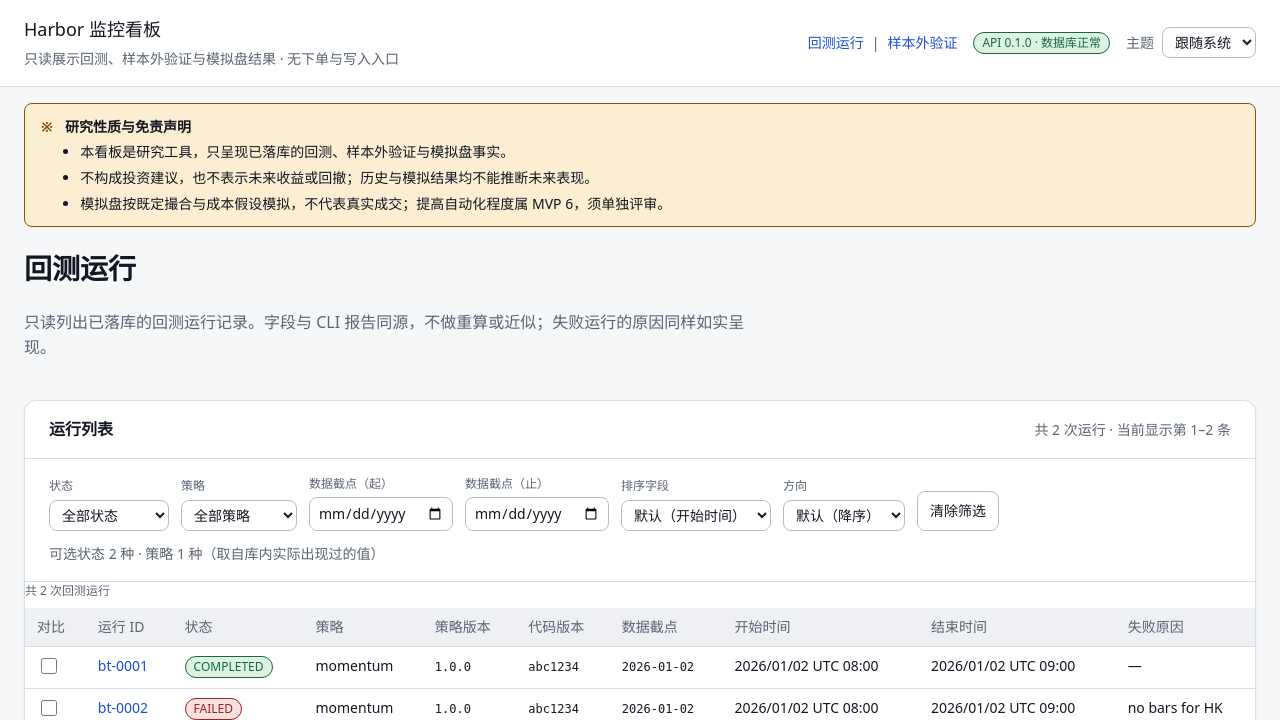
Test: dashboard smoke test › opens a run's detail view with the tab in the URL
The image size is (1280, 720).
Click the button with test id "open-run-bt-0002".
click(123, 708)  # box [98,697,148,718]
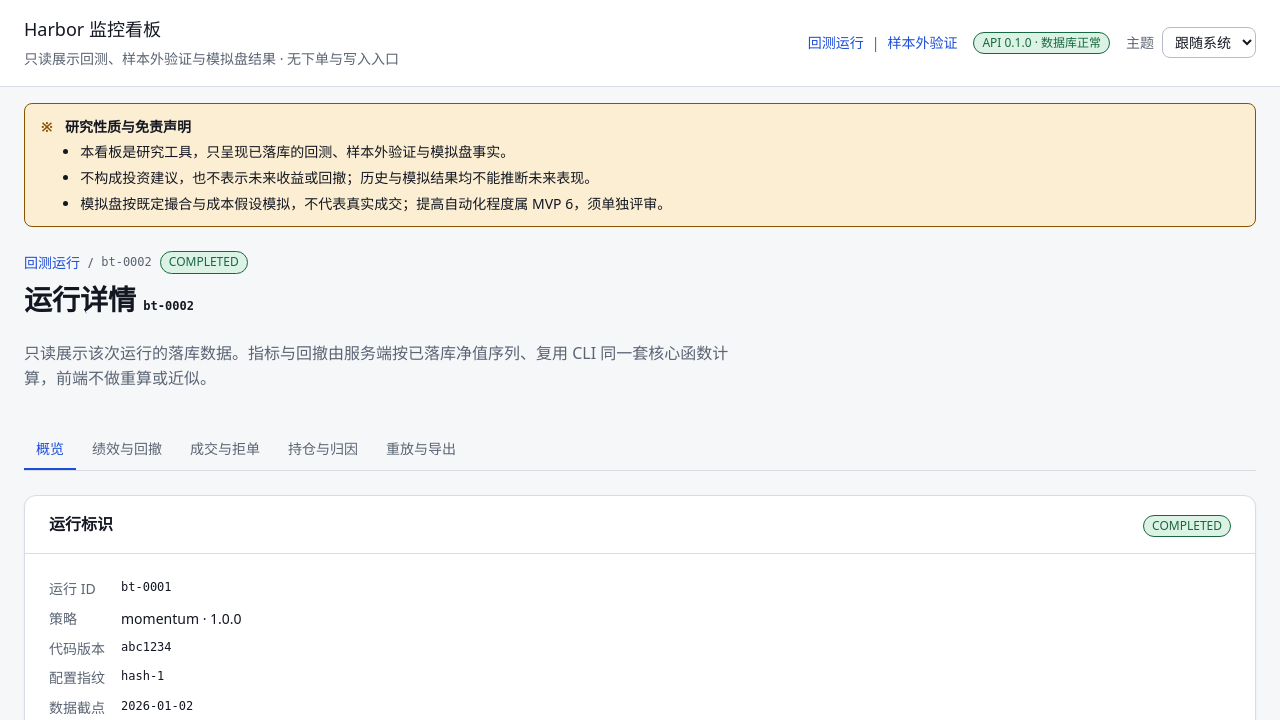
Expected: the heading "运行详情 bt-0002" is shown, [24,280,194,318]
